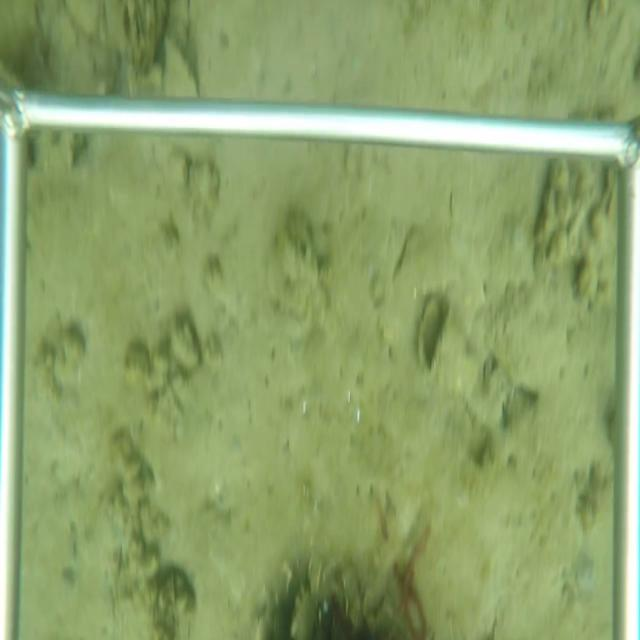Oyster-Indeterminate: (161, 30, 203, 97)
Oyster-Open: (416, 290, 455, 379)
